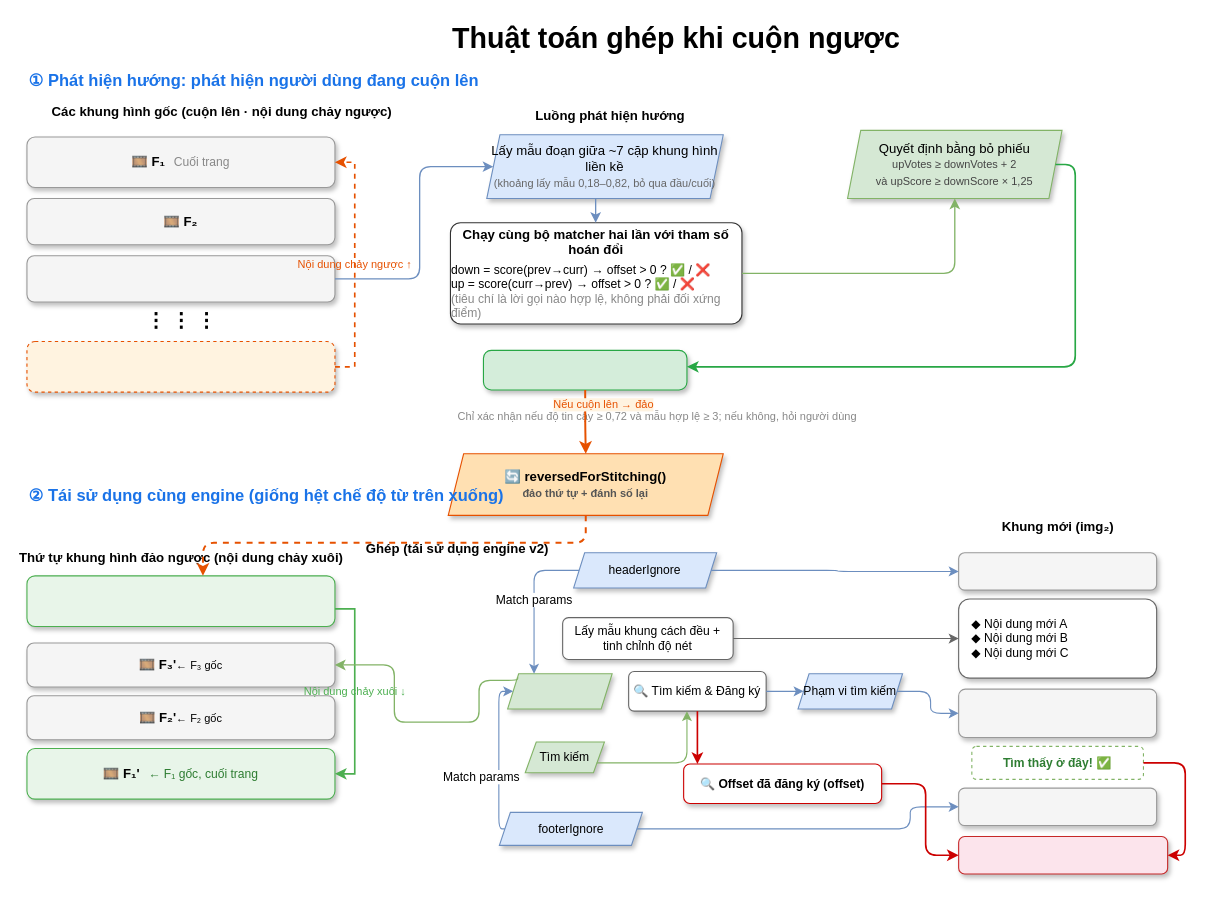
The diagram is 1214 pixels wide and 901 high, and some of its shapes have lost their labels. Here are the shapes that lost their labels. From the top down, the centre of each, then its label:
At [181,280]: "🎞️ F₃".
At [181,368]: "🎞️ Fₙ Đầu trang".
At [586,371]: "✅ Kết luận: cuộn lên".
At [1058,572]: "🎬 Thanh trạng thái / Điều hướng".
At [181,602]: "🎞️ Fₙ' ← Fₙ gốc, đầu trang".
At [560,692]: "Khớp mẫu".
At [1058,714]: "Nội dung cũ ...".
At [1058,808]: "⊞ Tab Bar".
At [1063,856]: "⚙️ Áp dụng ghép → Ảnh dài chính xác".
